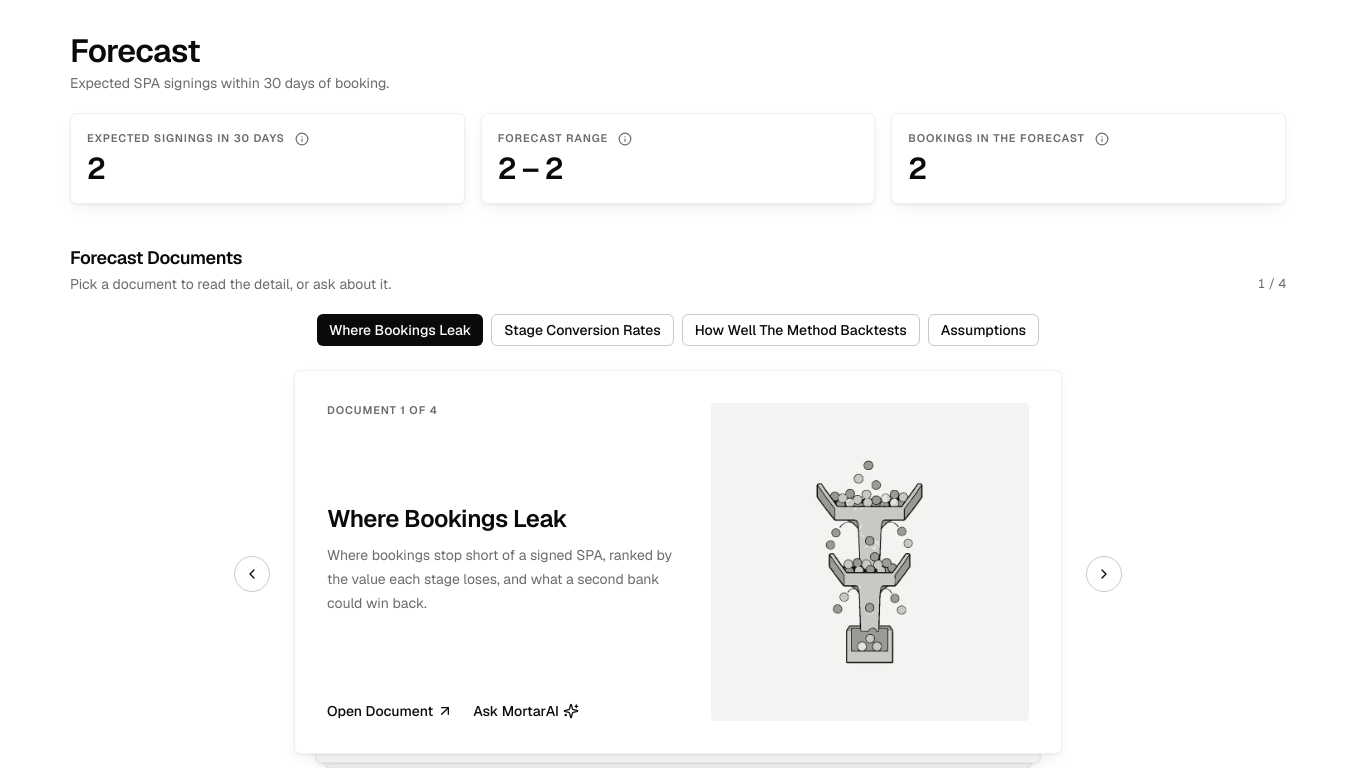
Test: ForecastPage › opens the chosen document in a dialog and restores focus after Escape
Click the button "Stage Conversion Rates": x=582, y=330 x1=491 y1=314 x2=674 y2=346
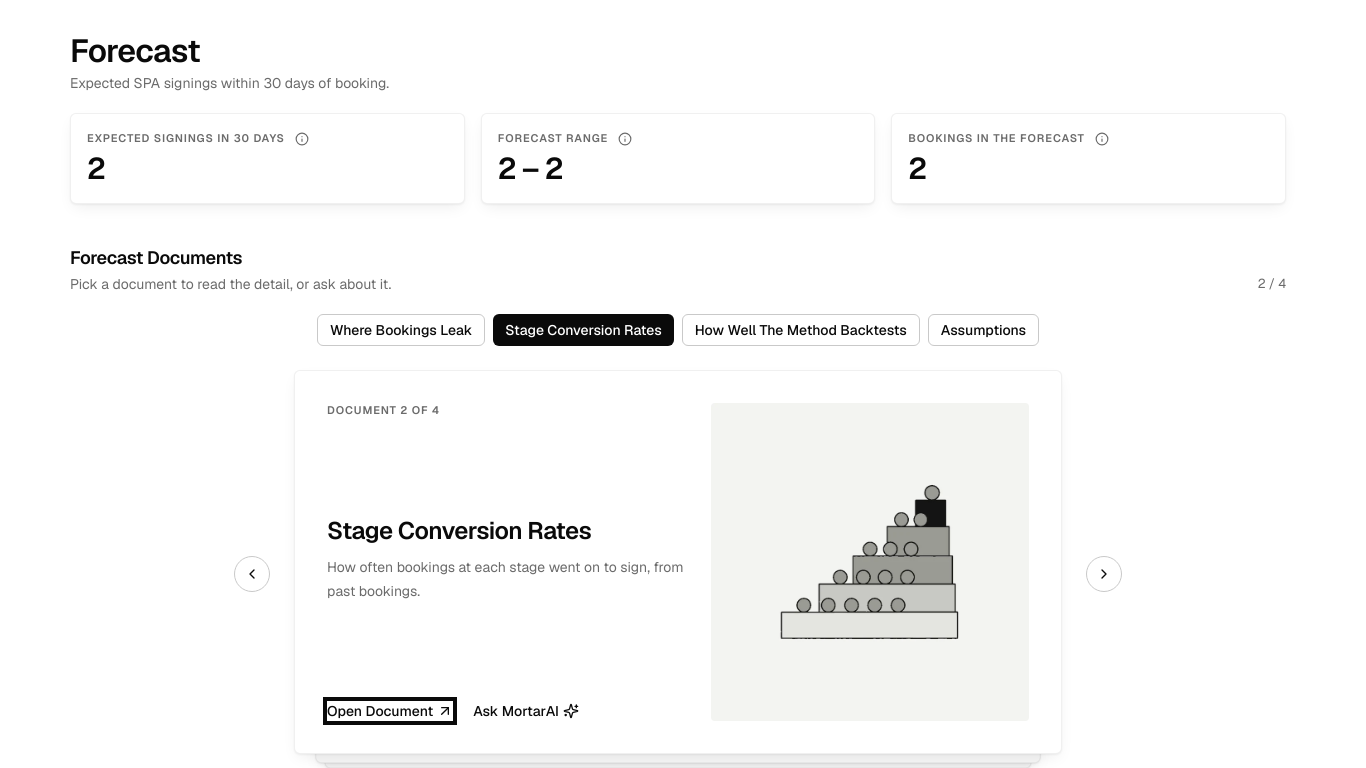
Click the button "Open Document": x=390, y=711 x1=327 y1=701 x2=453 y2=721
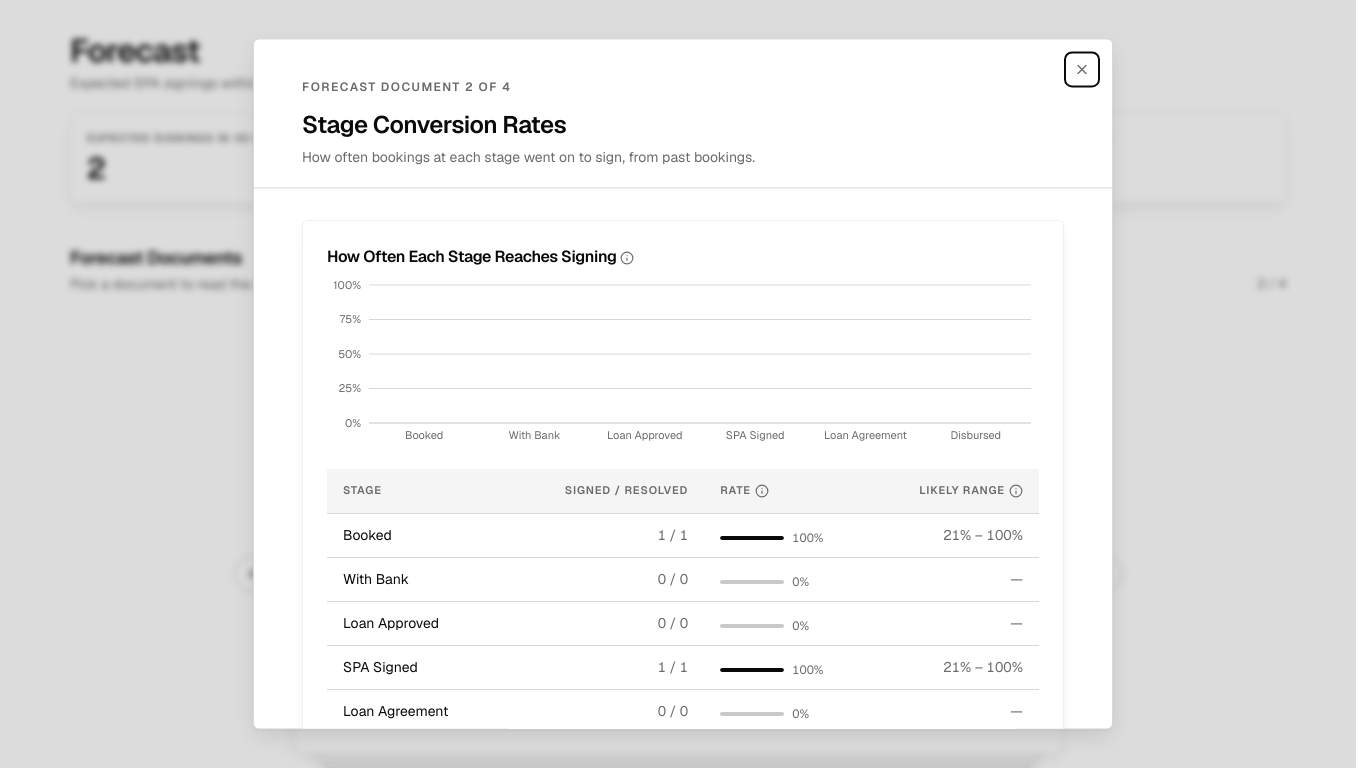
Now the column heading "Signed / Resolved" is shown, box x1=504 y1=469 x2=704 y2=513
Now the column heading "Likely Range" is shown, box x1=864 y1=469 x2=1039 y2=513
Press Escape in the dialog, box x1=253 y1=38 x2=1113 y2=730
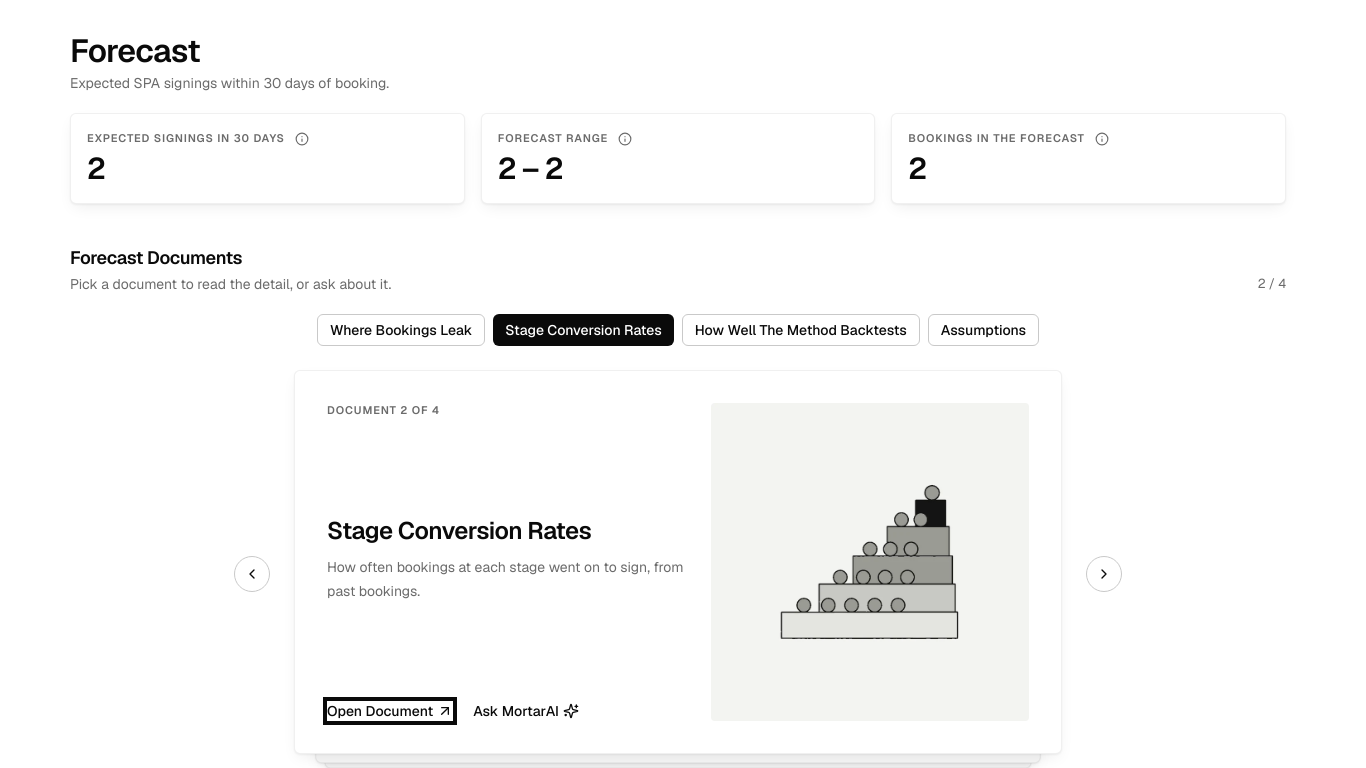
Now the dialog is gone
